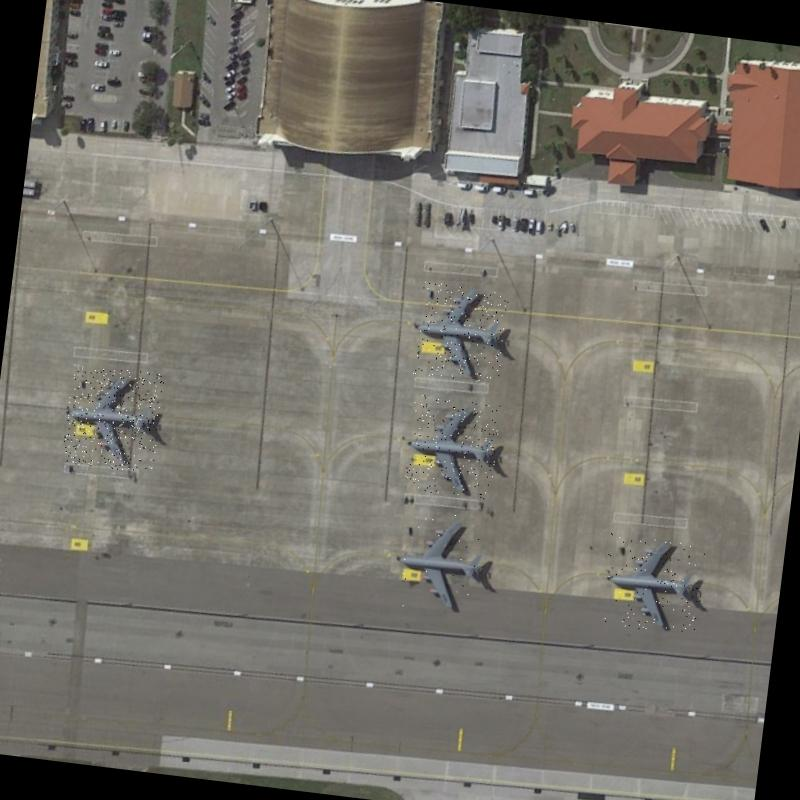A14: (388, 508, 493, 618), (60, 363, 164, 473), (600, 533, 708, 636), (403, 394, 502, 500), (412, 280, 510, 384)
